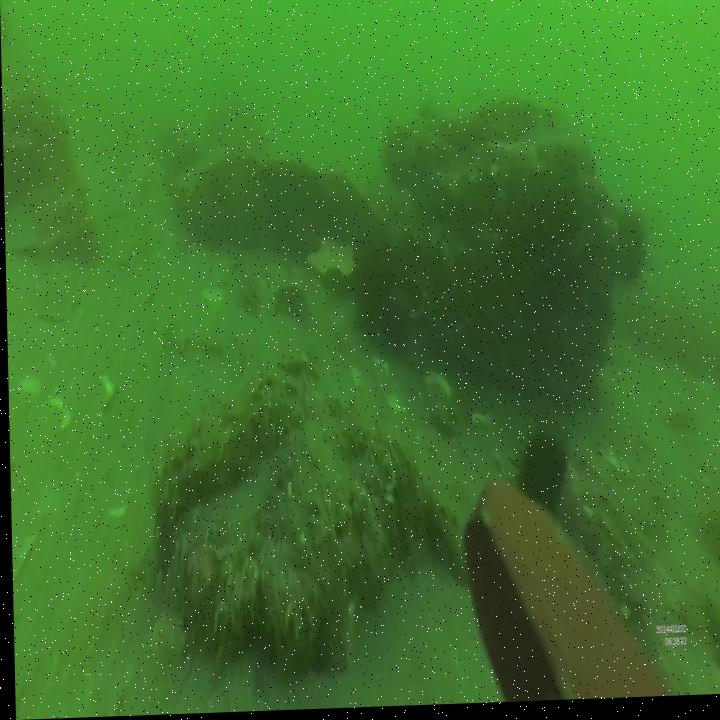echinus: (510, 432, 565, 523), (599, 203, 652, 294)
starfish: (307, 237, 355, 279)
